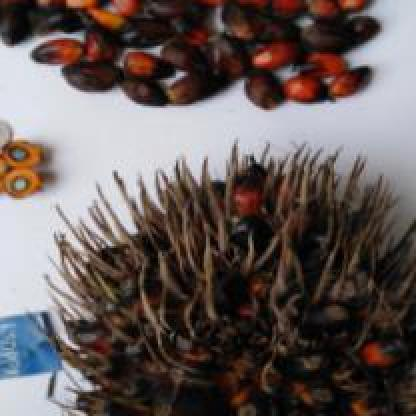Unripe: (14, 116, 416, 416)
